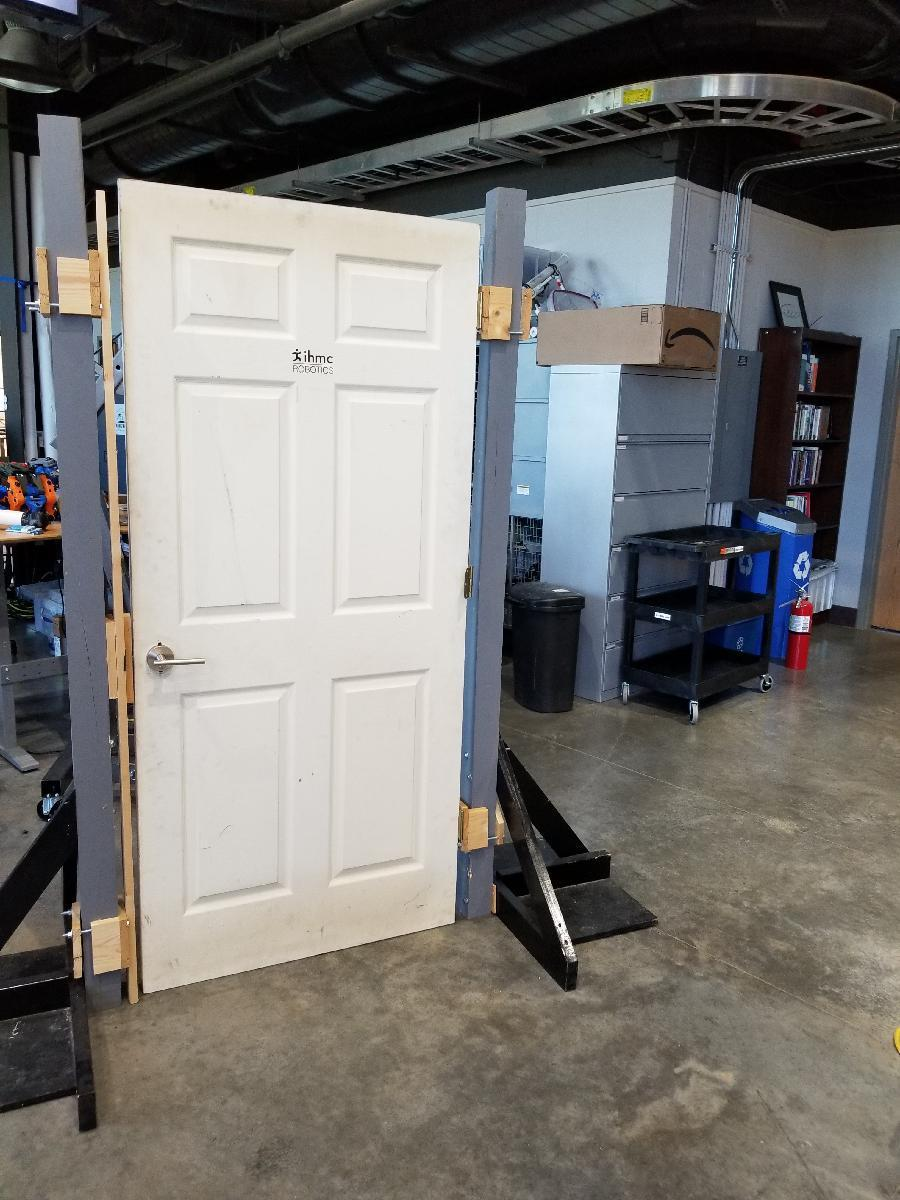door: (116, 170, 466, 966)
handle: (144, 638, 208, 679)
